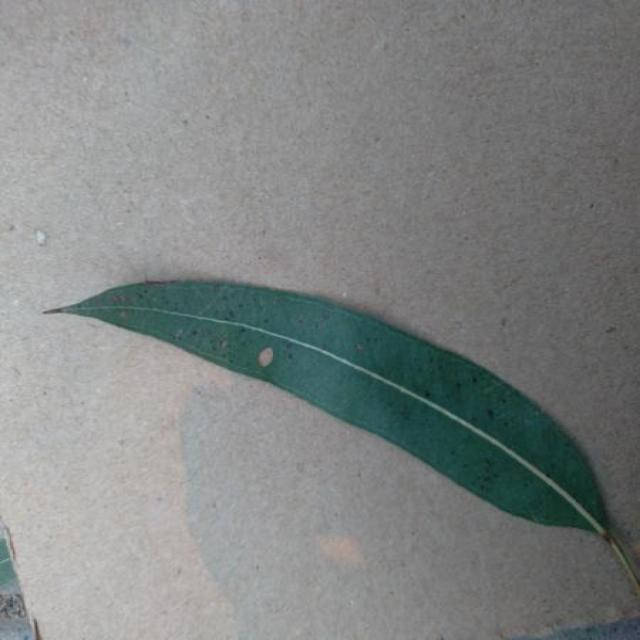eucalpytus: (47, 281, 638, 587)
